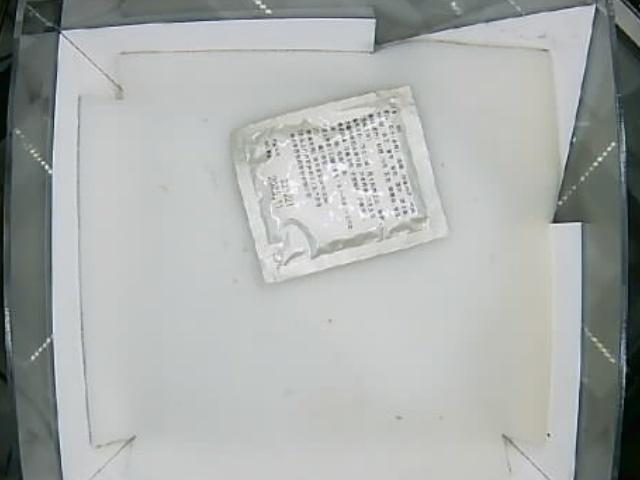Medicine: (233, 87, 452, 282)
